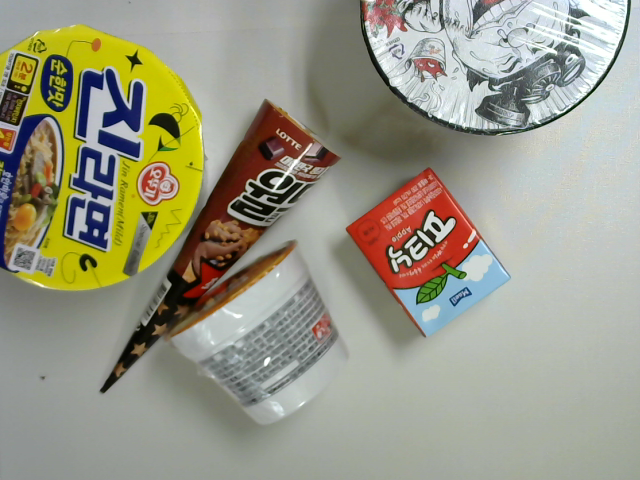HeJangsock: (347, 1, 630, 141)
Jinlamyeon_Mild_Taste_Large_Cup: (1, 28, 210, 296)
Picnic_Apple: (344, 163, 517, 341)
Udongmini: (160, 233, 351, 433)
World_Cone_Choco: (87, 94, 348, 402)
